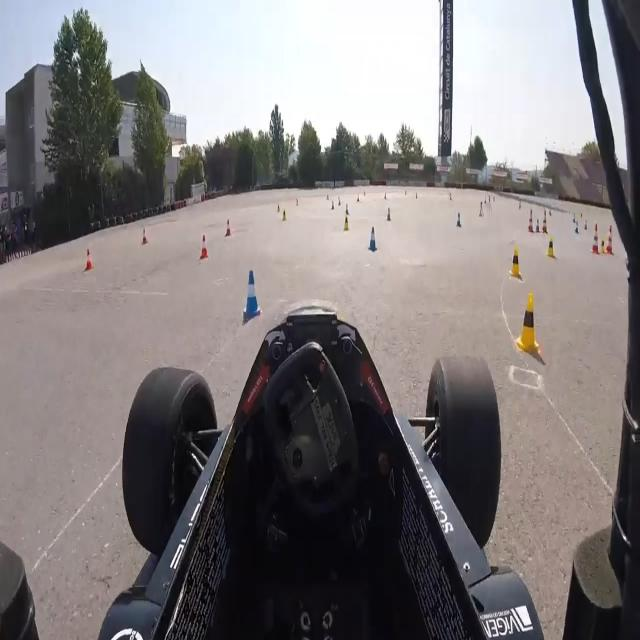blue_cone: (242, 267, 262, 325), (369, 225, 379, 257), (456, 212, 463, 230), (386, 205, 392, 223), (536, 217, 541, 233)
large_orange_cone: (606, 223, 614, 256), (592, 221, 600, 253), (529, 205, 534, 235), (543, 208, 548, 233)
orange_cone: (198, 232, 209, 260), (84, 247, 94, 272), (141, 224, 149, 247), (226, 218, 232, 239)
yellow_cone: (515, 287, 545, 362), (509, 246, 524, 276), (547, 235, 555, 258), (600, 232, 606, 257), (344, 212, 350, 232), (282, 208, 286, 221)
